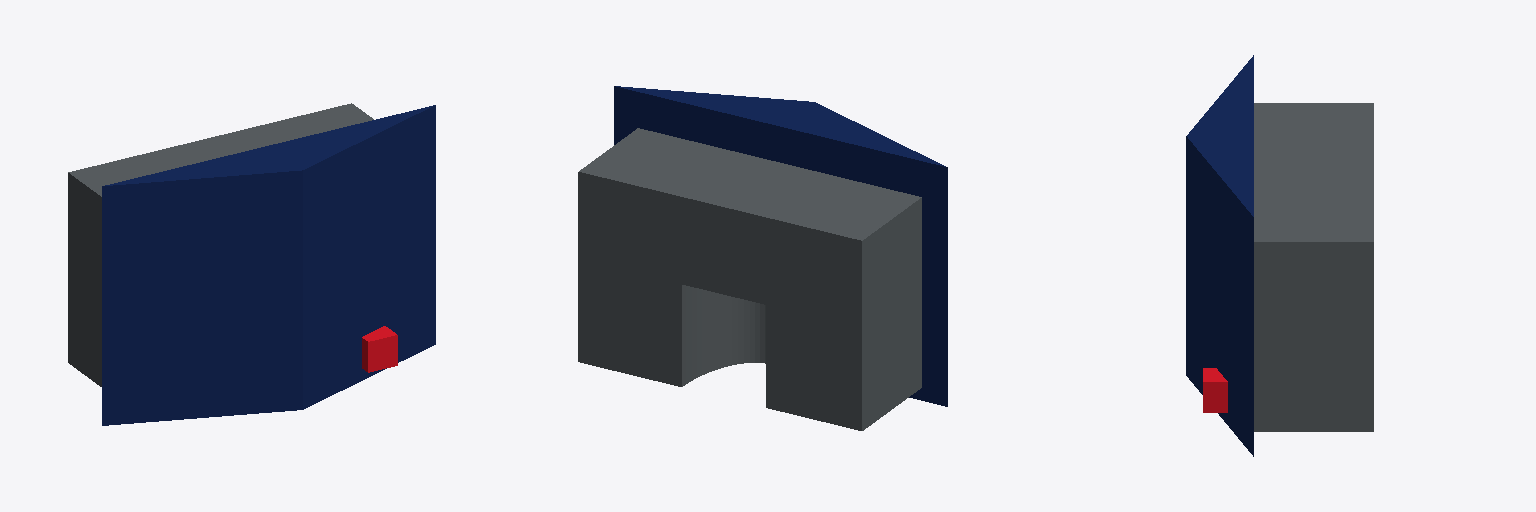
Rendered from tinker.obj.
3 views of the same model, side by side, from view 1: azimuth 30°, elevation 25°; view 2: azimuth 150°, elevation 25°; view 3: azimuth 270°, elevation 25° (orthographic).
Visible parts, largest first — view 1: obj_0; view 2: obj_0; view 3: obj_0.
Boxes of the visible parts, x1=… form: obj_0: x1=68, y1=103, x2=435, y2=425; obj_0: x1=578, y1=86, x2=947, y2=430; obj_0: x1=1186, y1=55, x2=1373, y2=456.
Bounding box in the file's own units: 68 × 46.53 × 32.93.